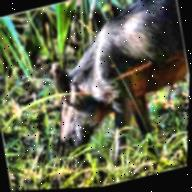boar: (19, 0, 192, 178)
